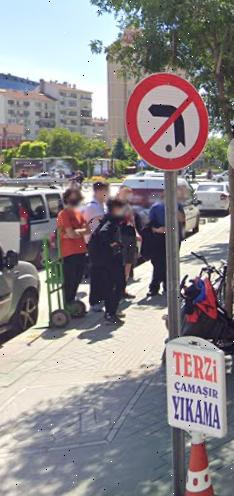leftturnsareforbidden: (126, 73, 208, 170)
